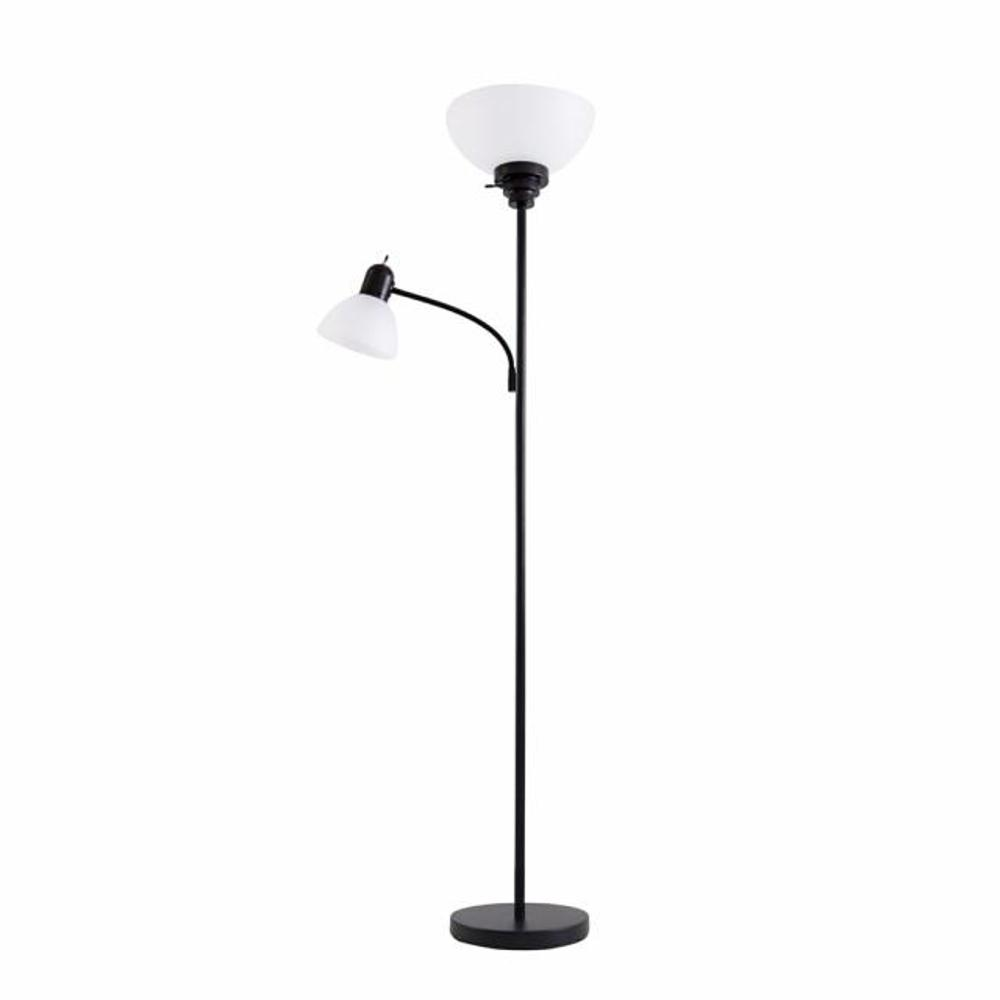shelf: (304, 53, 676, 970)
